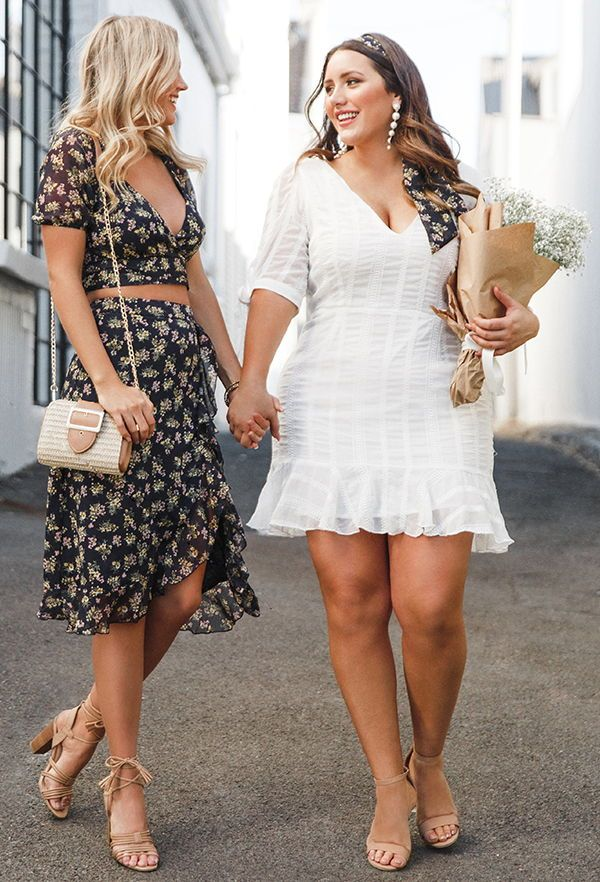Person: (243, 34, 537, 873), (27, 14, 242, 871)
